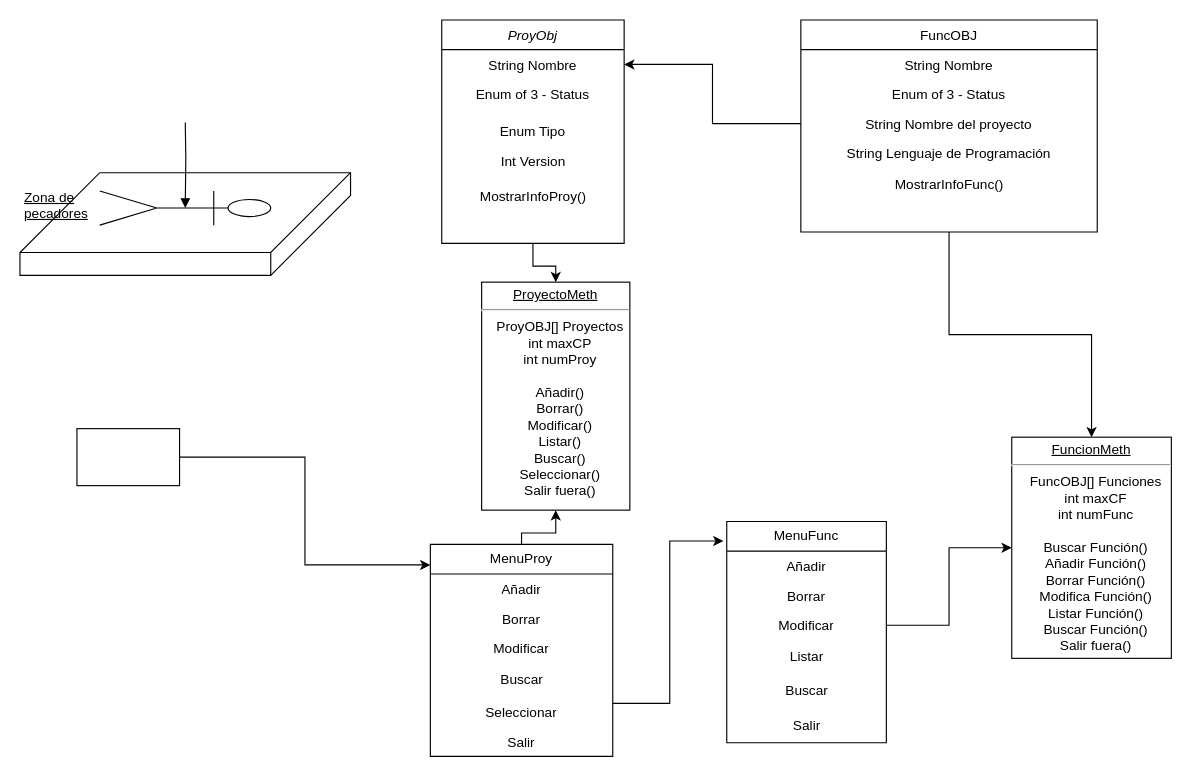
This 1191x780 diagram has some shape labels left out. Each missing label, with the centre of its shape:
"Actor" belongs at point (185, 207).
"Main" belongs at point (128, 456).
